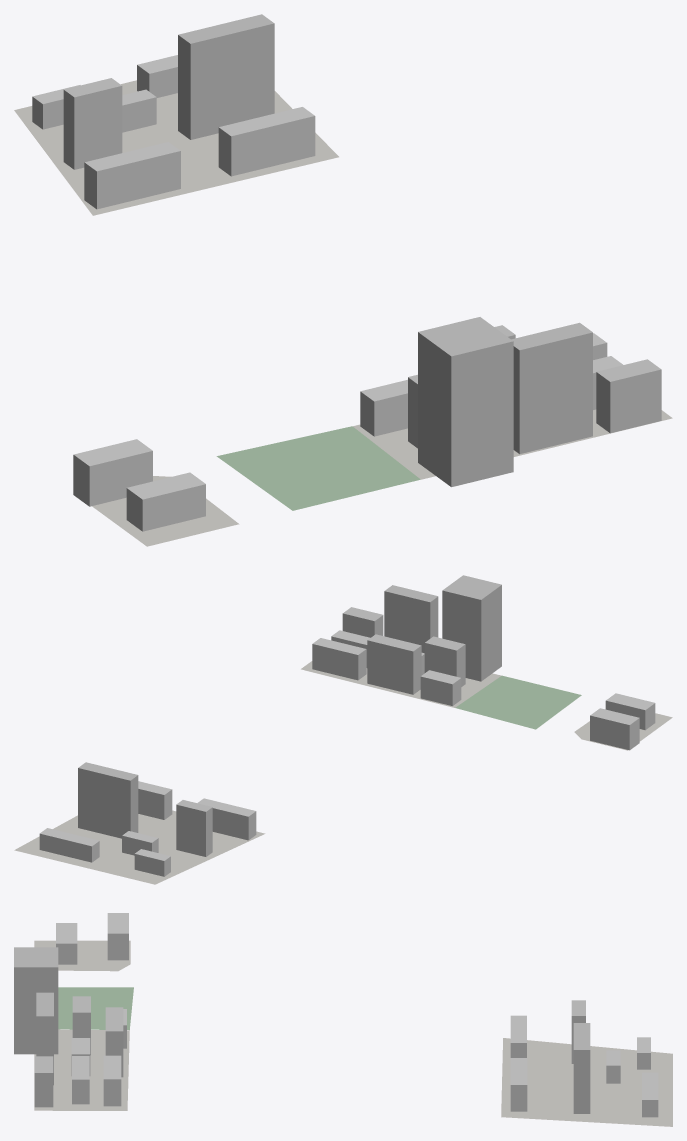
Rendered from 113_74_mid.glb.
3 renders of one model, top to bottom at view 1: azimuth 30°, elevation 25°; view 2: azimuth 150°, elevation 25°; view 3: azimuth 270°, elevation 25°, orthographic. The views are drawn at different scales.
Bounding box in the file's own units: 346 × 75.49 × 516.
